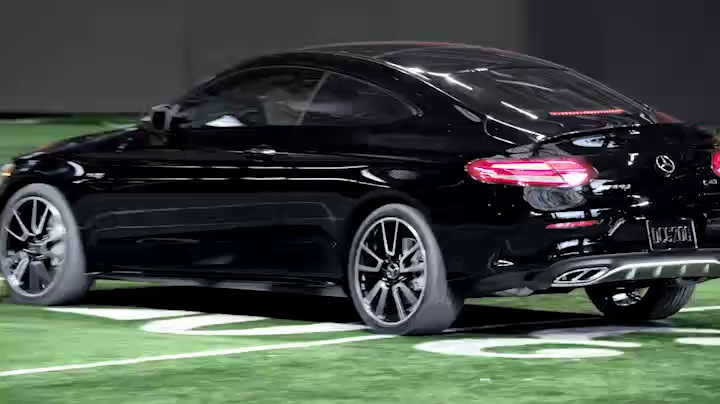amg: (1, 39, 719, 338)
